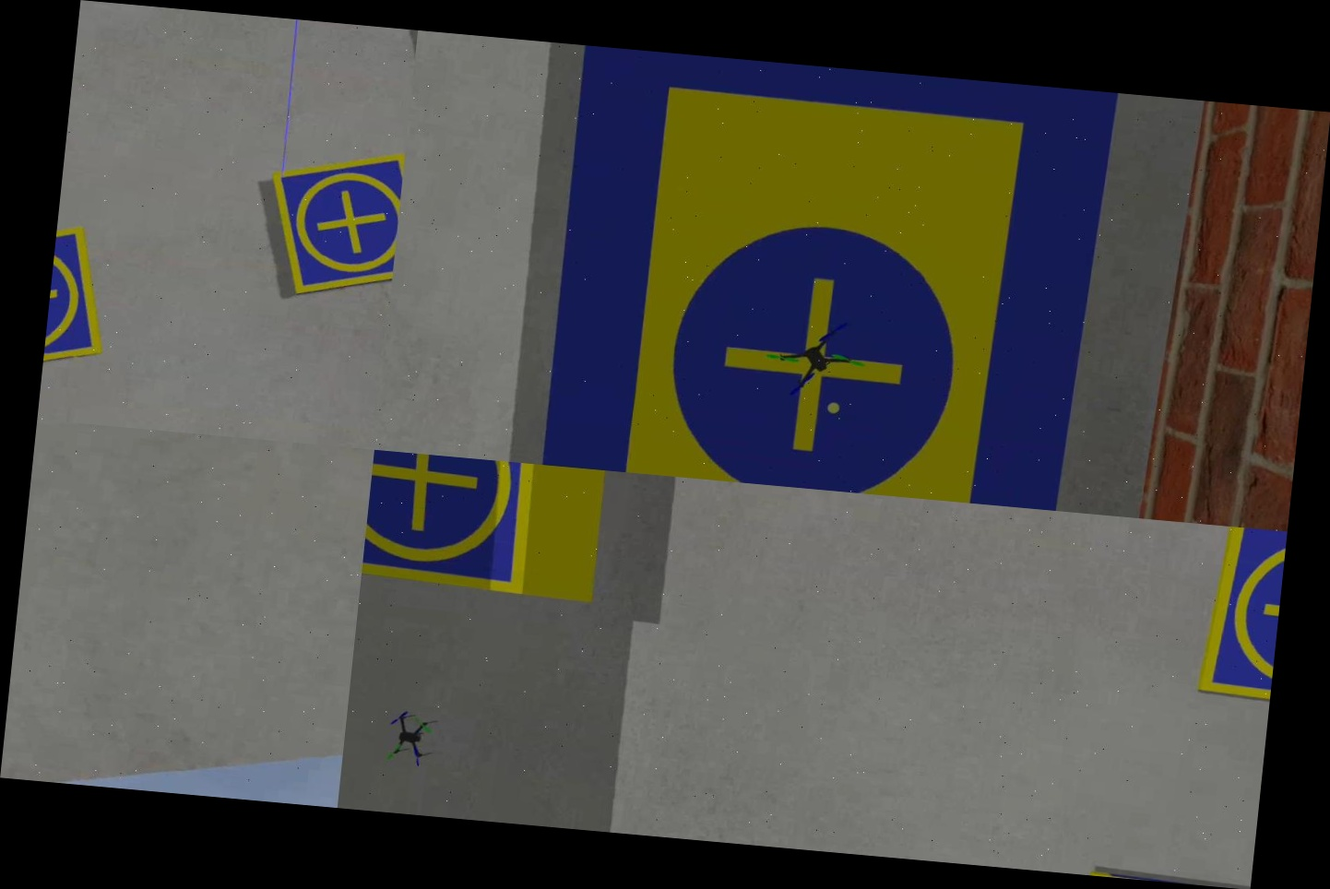large_base: (513, 42, 1122, 513)
small_base: (361, 450, 549, 599), (257, 139, 405, 304), (1195, 525, 1287, 709), (41, 222, 117, 393)
